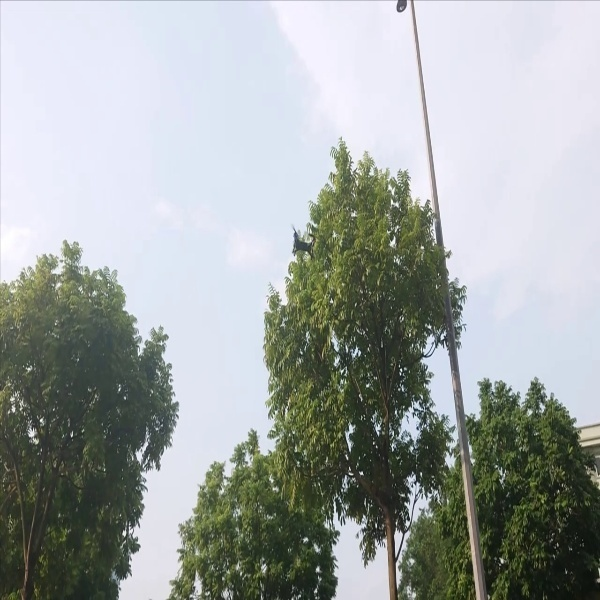drone: (288, 225, 322, 259)
